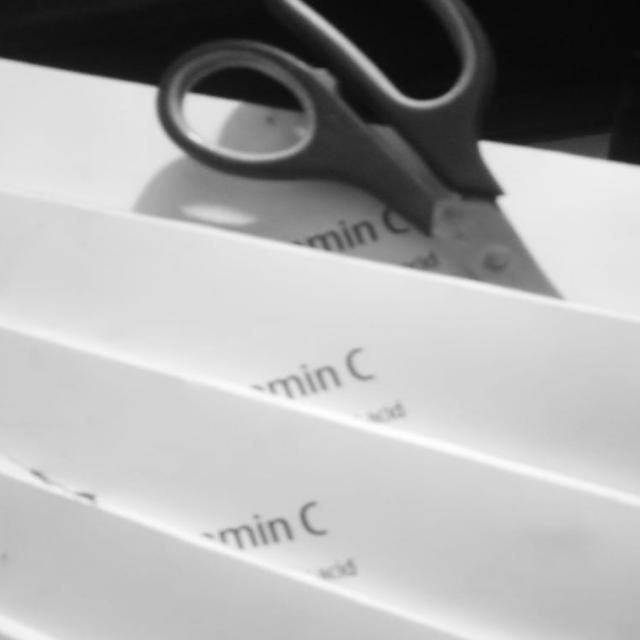tesoura: (159, 0, 554, 293)
